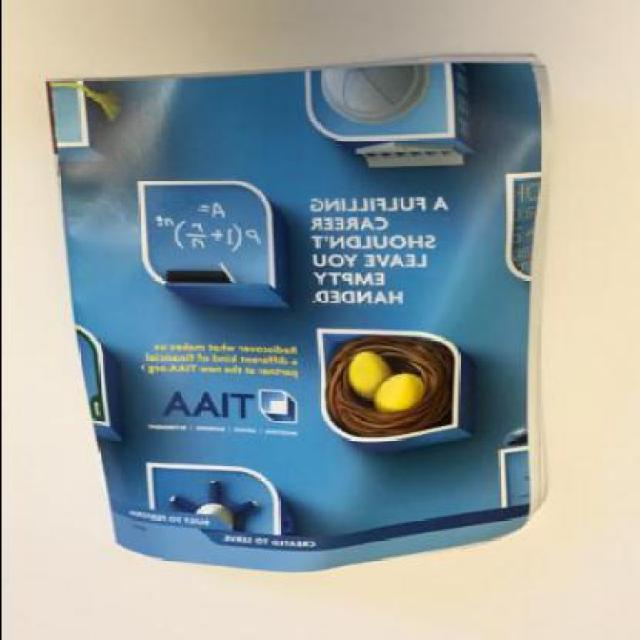PAPER: (47, 56, 548, 576)
